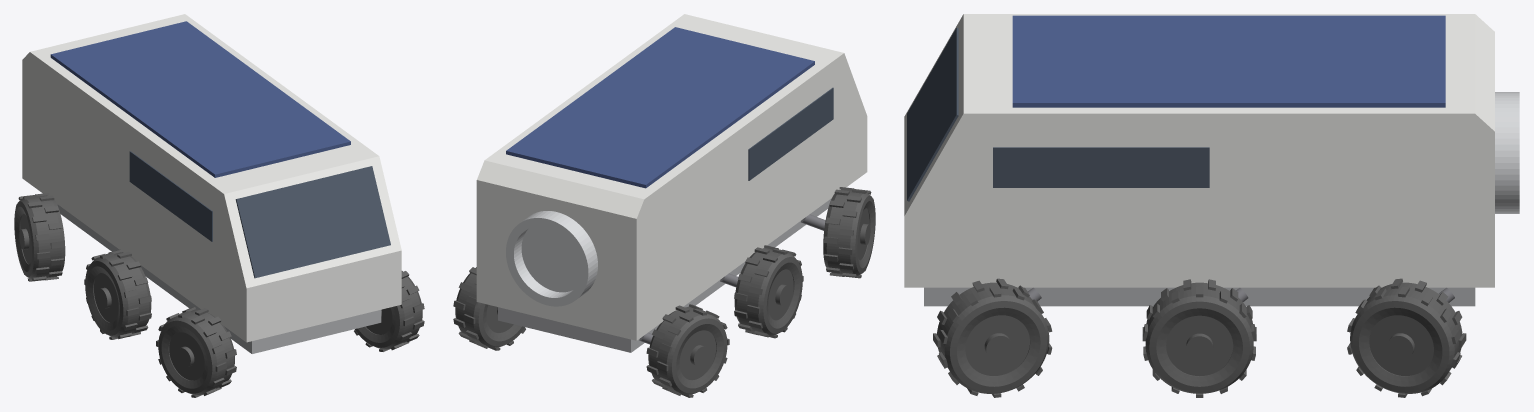
Rendered from rover03_pressurised_rover_steer_left.glb.
The picture shows the model from 3 angles, left to right: view 1: azimuth 30°, elevation 25°; view 2: azimuth 150°, elevation 25°; view 3: azimuth 270°, elevation 25°; orthographic projection. The views are drawn at different scales.
Parts seen in each view (by area): view 1: cabin, roof_solar, windows, wheel_4, wheel_5, wheel_6, chassis, wheel_1; view 2: cabin, roof_solar, rear_hatch, wheel_6, wheel_5, wheel_4, windows, chassis, wheel_3, suspension_arms; view 3: cabin, roof_solar, windows, wheel_2, wheel_1, wheel_3, chassis, rear_hatch.
Boxes of the visible parts, box(x1,y1,x2,y2) form: cabin: box(22, 14, 401, 342); roof_solar: box(50, 21, 350, 177); windows: box(129, 151, 390, 278); wheel_4: box(156, 307, 236, 397); wheel_5: box(84, 249, 151, 339); wheel_6: box(14, 193, 65, 281); chassis: box(57, 204, 381, 353); wheel_1: box(354, 271, 424, 351); cabin: box(476, 14, 867, 340); roof_solar: box(506, 27, 814, 188); rear_hatch: box(506, 211, 597, 306); wheel_6: box(646, 304, 729, 397); wheel_5: box(734, 245, 803, 338); wheel_4: box(823, 187, 875, 278); windows: box(748, 87, 833, 180); chassis: box(498, 198, 831, 352); wheel_3: box(453, 267, 525, 350); suspension_arms: box(639, 214, 825, 344); cabin: box(904, 14, 1494, 287); roof_solar: box(1012, 15, 1445, 107); windows: box(907, 27, 1209, 201); wheel_2: box(1142, 279, 1256, 397); wheel_1: box(933, 278, 1052, 397); wheel_3: box(1347, 278, 1466, 397); chassis: box(924, 287, 1475, 306); rear_hatch: box(1495, 92, 1519, 213).
Bounding box in the file's own units: 3.58 × 3.03 × 6.25.
